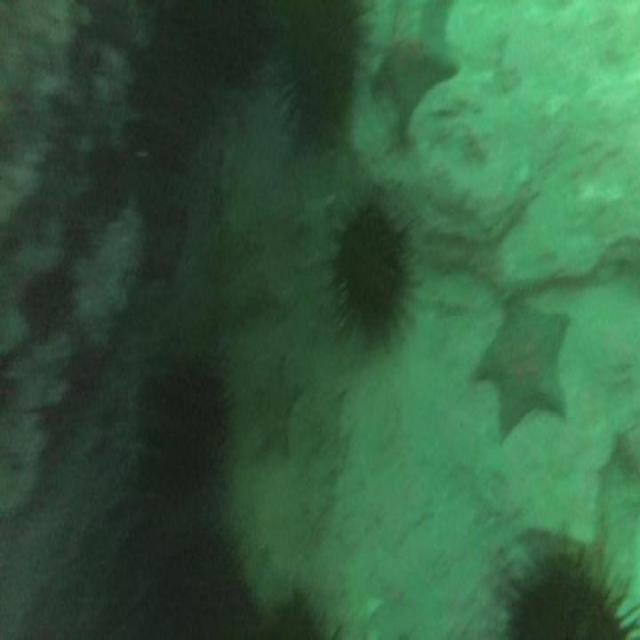echinus: (158, 526, 247, 640), (333, 207, 410, 338), (151, 373, 229, 490), (514, 559, 626, 640), (290, 25, 356, 139)
starfish: (473, 294, 569, 436), (378, 28, 456, 128)
